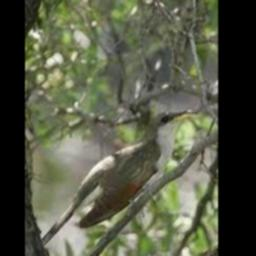Cuckoo: (41, 110, 196, 246)
